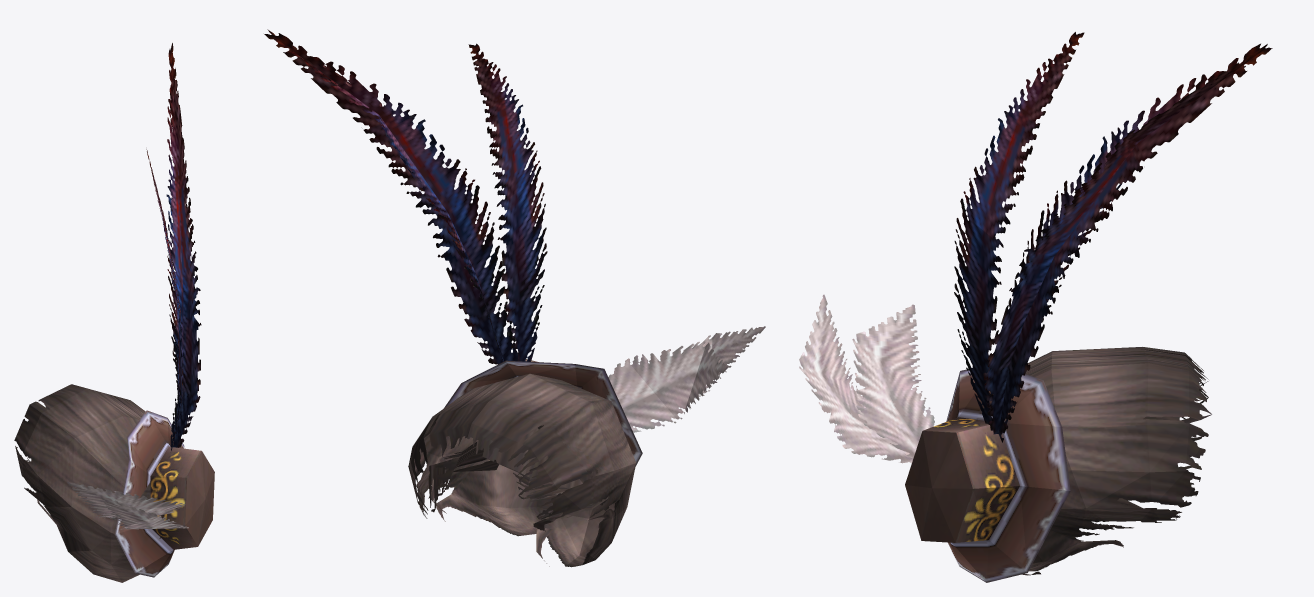
Rendered from common_hair_female_3020.obj.
The picture shows the model from 3 angles, left to right: view 1: azimuth 30°, elevation 25°; view 2: azimuth 150°, elevation 25°; view 3: azimuth 270°, elevation 25°; orthographic projection. The views are drawn at different scales.
Visible parts, largest first — view 1: common_hair_female_3020; view 2: common_hair_female_3020; view 3: common_hair_female_3020.
Part boxes in pixels (x1,y1,x2,y2): common_hair_female_3020: (14,43,214,582); common_hair_female_3020: (264,29,765,567); common_hair_female_3020: (799,32,1272,582).
Size of the model in its own units: 14.98 by 27.82 by 19.21.
1 material, 1 textured.
